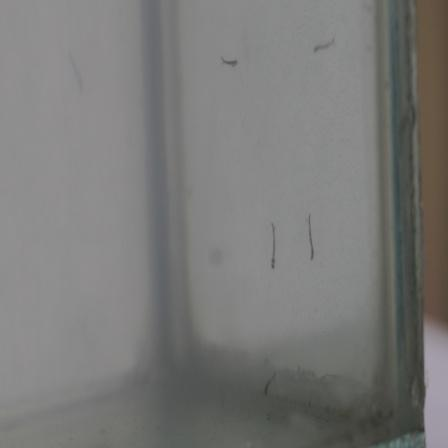Jentik-Nyamuk: (266, 217, 281, 274)
